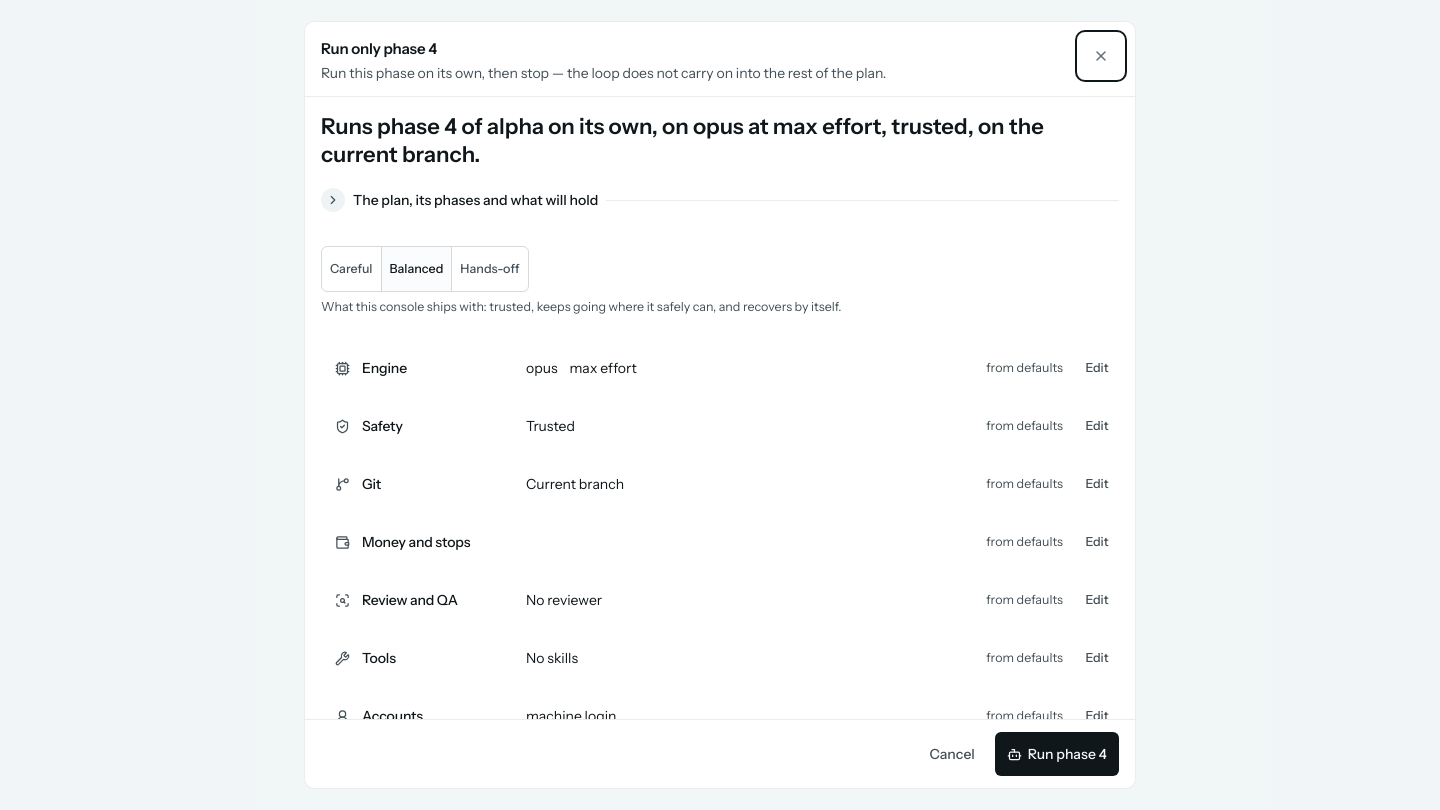
it: a claimed phase › an unclaimed phase shows no claim banner at all
Click the button "Edit" in the row of "Engine" at (1097, 368), box [1075,346,1119,390]
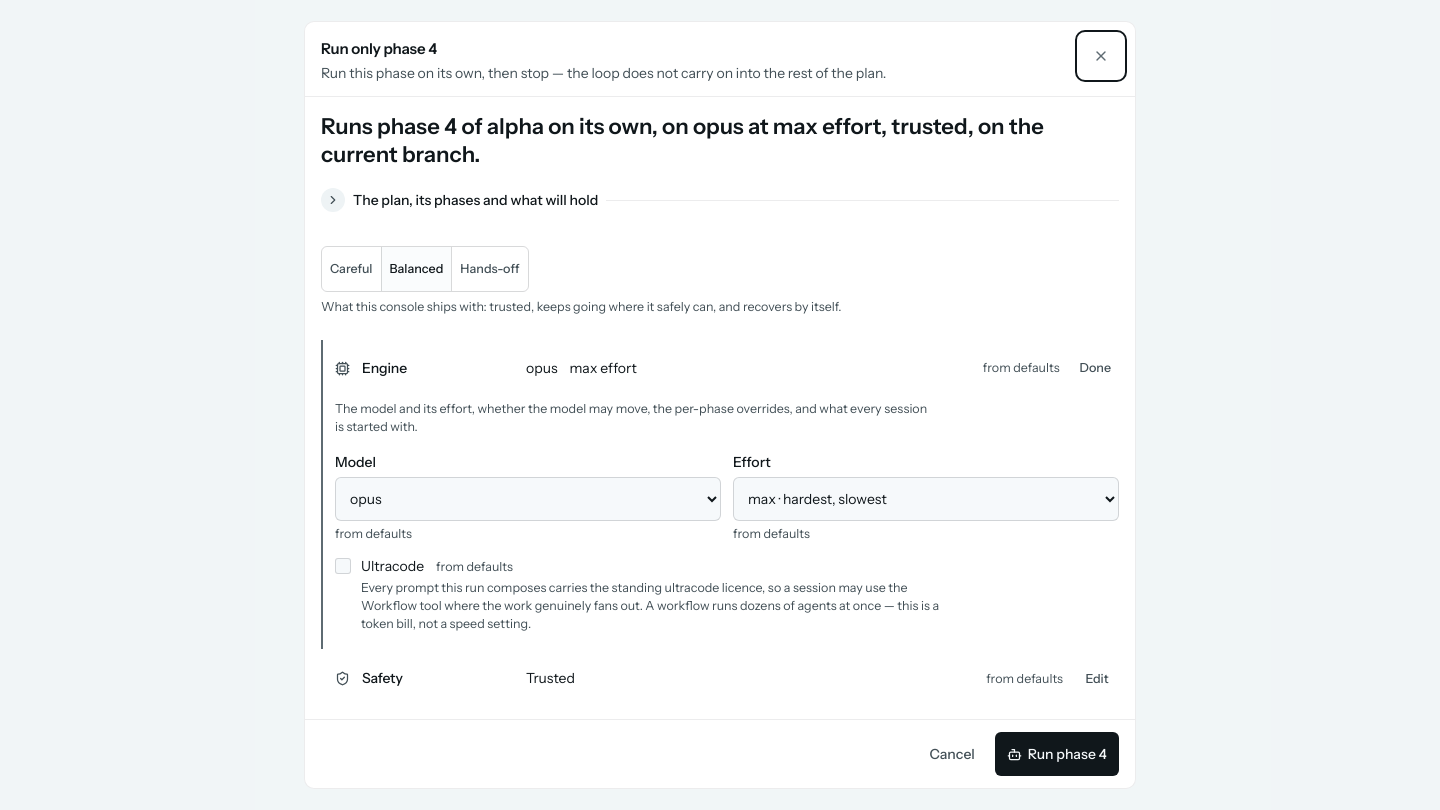
Expected: the button "Run phase 4" is enabled, [995,732,1119,776]
Expected: the dropdown labelled "Model" is shown, [335,477,721,521]
